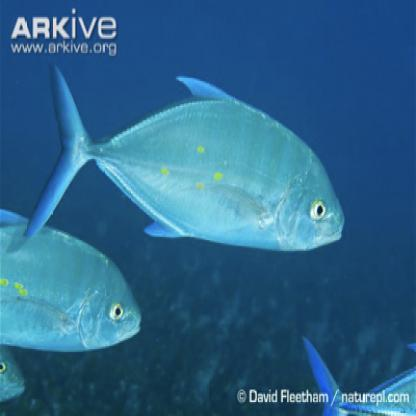jack: (19, 48, 348, 261), (1, 204, 148, 349)
